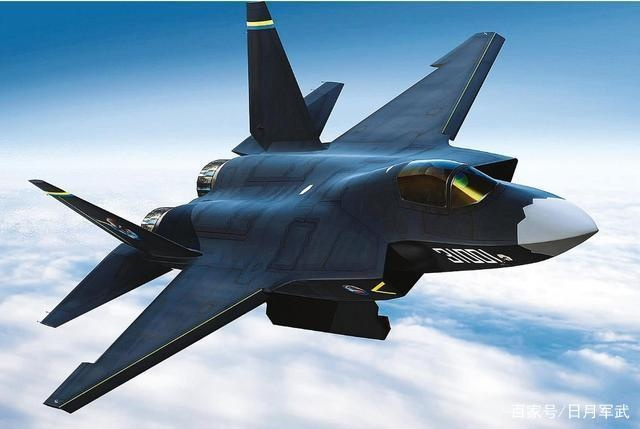airplane: (22, 5, 600, 414)
